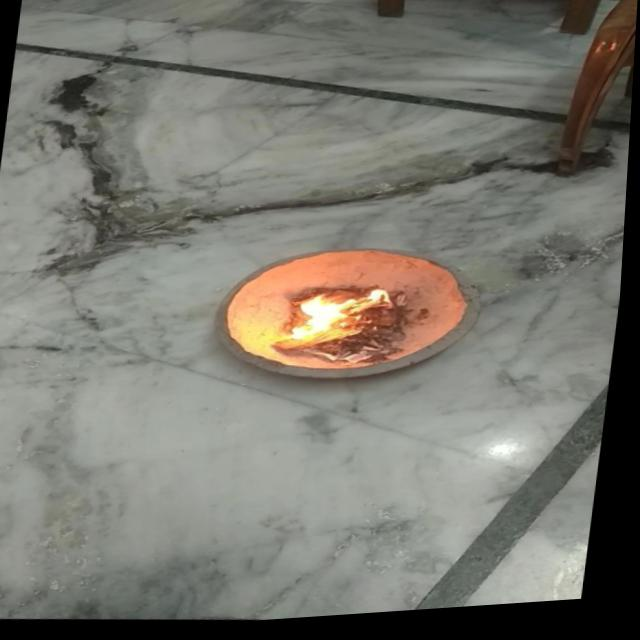fire: (284, 281, 404, 356)
